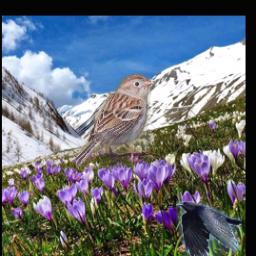Crow: (177, 201, 243, 256)
Sparrow: (77, 74, 152, 168)
